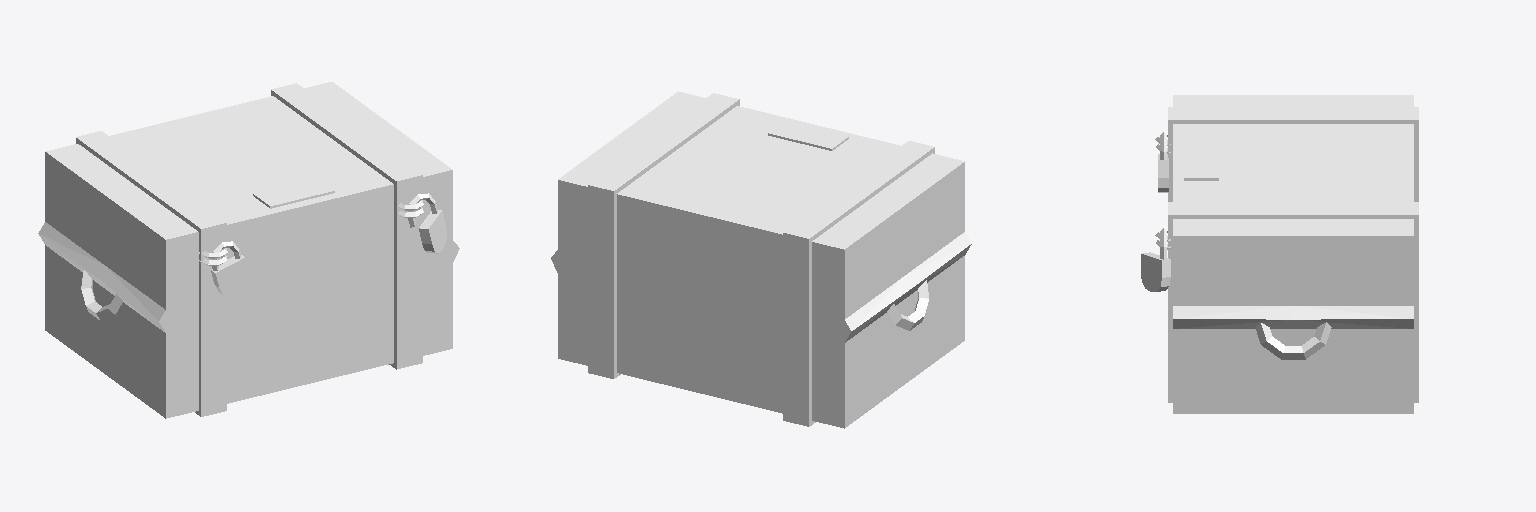
File: crate_mesh.obj
3 views of the same model, side by side, from view 1: azimuth 30°, elevation 25°; view 2: azimuth 150°, elevation 25°; view 3: azimuth 270°, elevation 25° (orthographic).
Visible parts, largest first — view 1: crate_mesh Mesh Mesh; view 2: crate_mesh Mesh Mesh; view 3: crate_mesh Mesh Mesh.
Boxes of the visible parts, x1,y1,x2,y2 form: crate_mesh Mesh Mesh: [38, 82, 459, 418]; crate_mesh Mesh Mesh: [551, 91, 971, 428]; crate_mesh Mesh Mesh: [1141, 95, 1418, 413].
Size of the model in its own units: 44.32 by 25.42 by 33.74.